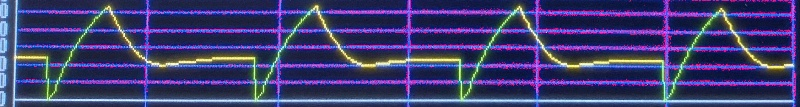leakage: (0, 0, 799, 107)
